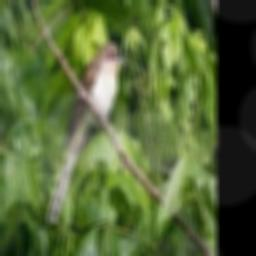Cuckoo: (45, 42, 126, 224)
